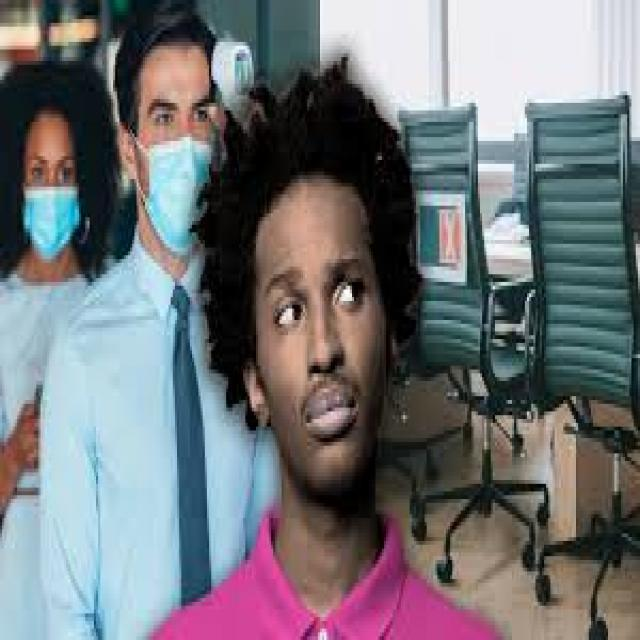No_BreathingApparatus: (135, 74, 213, 253), (19, 147, 79, 258)
No_Goggles: (256, 247, 378, 334), (23, 154, 79, 183)
No_Helmet: (249, 90, 382, 247), (122, 8, 216, 85), (15, 80, 84, 147)
